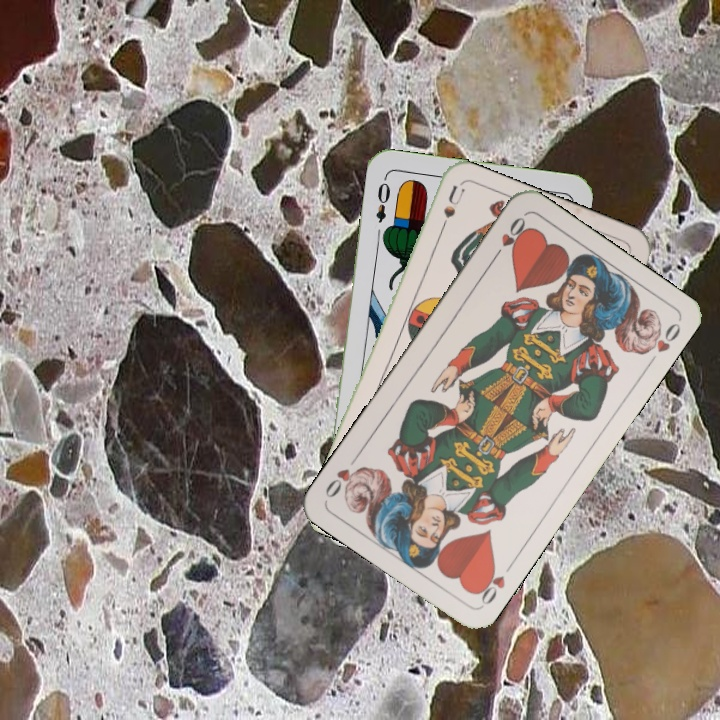EO: (371, 173, 393, 225)
HO: (471, 557, 517, 609), (488, 212, 531, 263)
SU: (434, 182, 467, 240)
